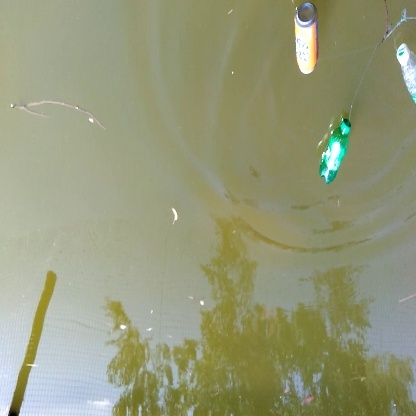bottle: (316, 119, 353, 186)
